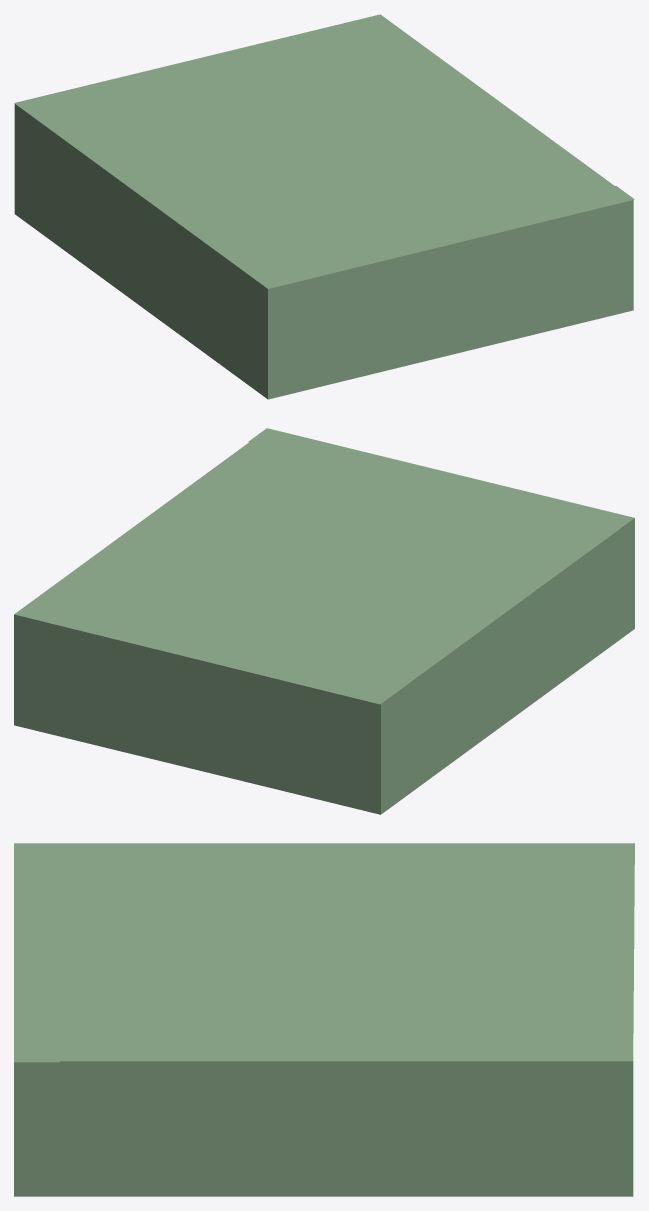
File: HYDROLIC_DRAIN_TK.glb
3 views of the same model, one above another, from view 1: azimuth 30°, elevation 25°; view 2: azimuth 150°, elevation 25°; view 3: azimuth 270°, elevation 25° (orthographic). The views are drawn at different scales.
Parts seen in each view (by area): view 1: PL_2ndDeckxEPRP_013001-9_NVA_1993, PL_L7SectionxEPRP_004001-10_NVA_1993, PL_TransxFR45P_028002-12.5_NVA36_2014, PL_2ndDeckxEPRP_003001-9_NVA_1993, PL_2ndDeckxEPRP_002002-9_NVA_1993, PL_2ndDeckxEPRP_002001-9_NVA_1993, PL_L7SectionxEPRP_027001-8_NVA_1993, PL_TransxFR45P_028001-12.5_NVA36_2014; view 2: PL_2ndDeckxEPRP_013001-9_NVA_1993, PL_LBHDxEPRP_013001-15_NVA_1993, PL_TransxFR45P_028002-12.5_NVA36_2014, PL_2ndDeckxEPRP_003001-9_NVA_1993, PL_2ndDeckxEPRP_002002-9_NVA_1993, PL_2ndDeckxEPRP_002001-9_NVA_1993, PL_TransxFR45P_028001-12.5_NVA36_2014; view 3: PL_TransxFR50P_035002-12.5_NVA_1993, PL_2ndDeckxEPRP_013001-9_NVA_1993, PL_2ndDeckxEPRP_003001-9_NVA_1993, PL_2ndDeckxEPRP_002002-9_NVA_1993, PL_2ndDeckxEPRP_002001-9_NVA_1993, PL_TransxFR50P_035001-12.5_NVA_1993.
Boxes of the visible parts, bbox=[...] form: PL_2ndDeckxEPRP_013001-9_NVA_1993: bbox=[81, 62, 581, 251]; PL_L7SectionxEPRP_004001-10_NVA_1993: bbox=[268, 200, 633, 382]; PL_TransxFR45P_028002-12.5_NVA36_2014: bbox=[14, 104, 249, 385]; PL_2ndDeckxEPRP_003001-9_NVA_1993: bbox=[14, 14, 445, 151]; PL_2ndDeckxEPRP_002002-9_NVA_1993: bbox=[217, 162, 614, 275]; PL_2ndDeckxEPRP_002001-9_NVA_1993: bbox=[250, 186, 634, 288]; PL_L7SectionxEPRP_027001-8_NVA_1993: bbox=[268, 293, 633, 399]; PL_TransxFR45P_028001-12.5_NVA36_2014: bbox=[249, 275, 267, 399]; PL_2ndDeckxEPRP_013001-9_NVA_1993: bbox=[80, 466, 582, 655]; PL_LBHDxEPRP_013001-15_NVA_1993: bbox=[14, 614, 380, 814]; PL_TransxFR45P_028002-12.5_NVA36_2014: bbox=[381, 532, 616, 814]; PL_2ndDeckxEPRP_003001-9_NVA_1993: bbox=[14, 566, 446, 704]; PL_2ndDeckxEPRP_002002-9_NVA_1993: bbox=[217, 442, 615, 555]; PL_2ndDeckxEPRP_002001-9_NVA_1993: bbox=[248, 428, 634, 531]; PL_TransxFR45P_028001-12.5_NVA36_2014: bbox=[616, 518, 634, 641]; PL_TransxFR50P_035002-12.5_NVA_1993: bbox=[60, 1061, 633, 1196]; PL_2ndDeckxEPRP_013001-9_NVA_1993: bbox=[140, 843, 472, 1061]; PL_2ndDeckxEPRP_003001-9_NVA_1993: bbox=[472, 843, 634, 1061]; PL_2ndDeckxEPRP_002002-9_NVA_1993: bbox=[60, 843, 139, 1061]; PL_2ndDeckxEPRP_002001-9_NVA_1993: bbox=[14, 843, 59, 1062]; PL_TransxFR50P_035001-12.5_NVA_1993: bbox=[14, 1062, 59, 1196].
Bounding box in the file's own units: 4.52 × 1.3 × 5.42.
